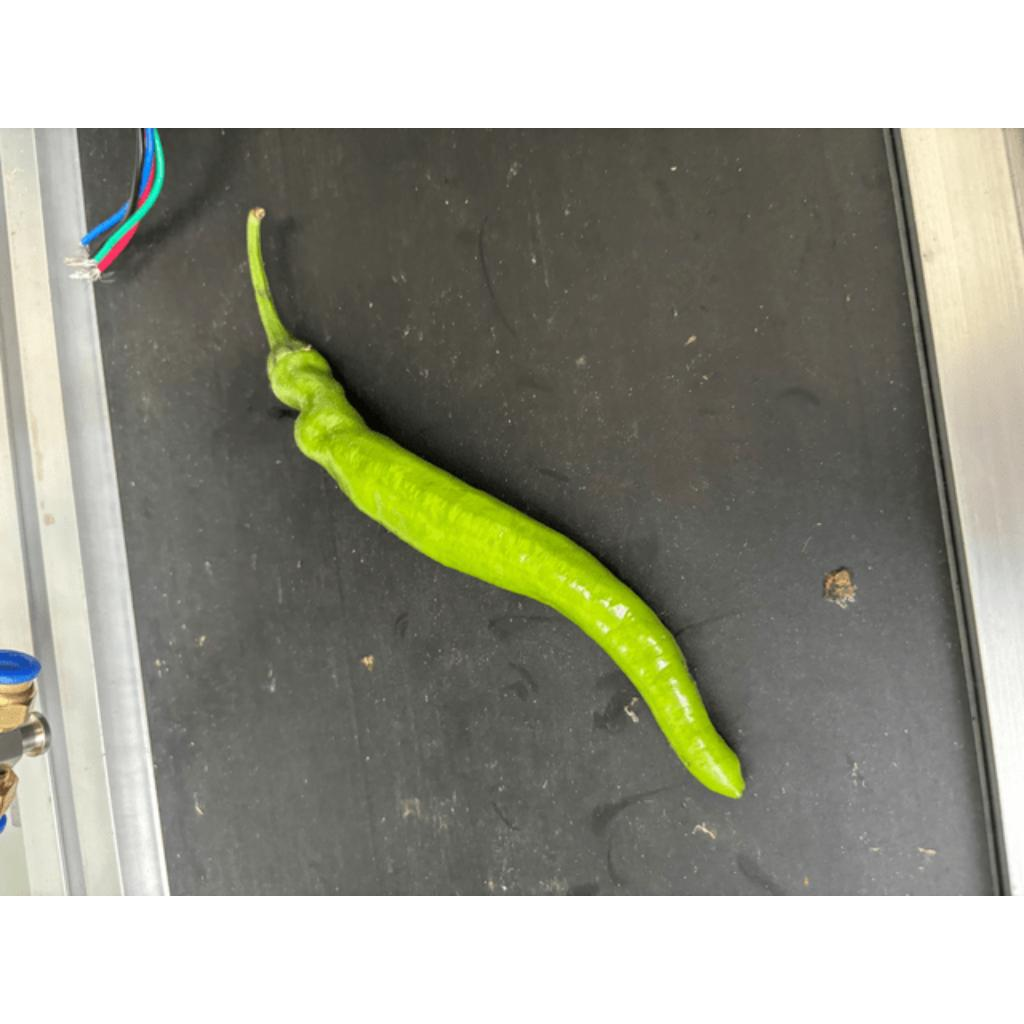chili: (265, 333, 749, 803)
